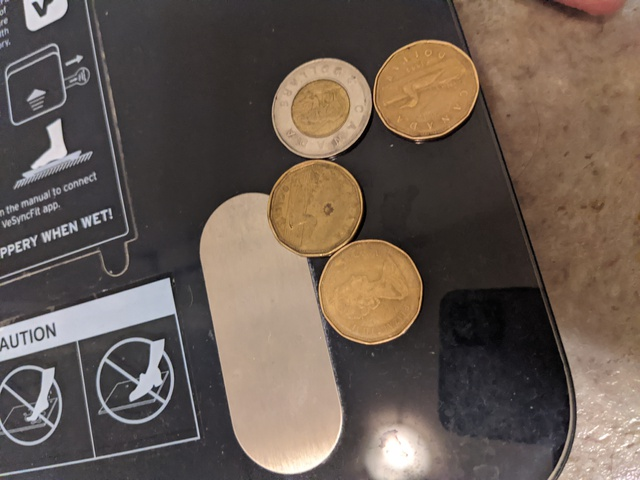loonie: (306, 229, 413, 350), (266, 157, 373, 262), (370, 44, 483, 140)
twonie: (262, 49, 369, 158)
